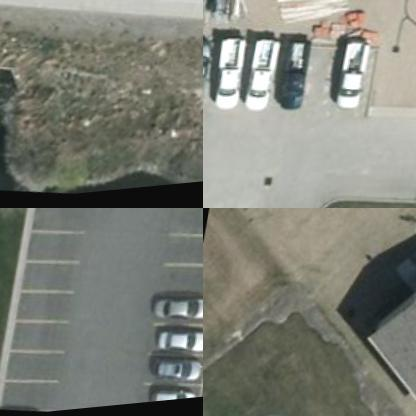car: (329, 35, 372, 112), (205, 34, 246, 112), (240, 38, 277, 112), (271, 40, 308, 110), (148, 356, 202, 391), (153, 329, 202, 364), (152, 298, 202, 331), (146, 385, 202, 408), (203, 32, 209, 104)
